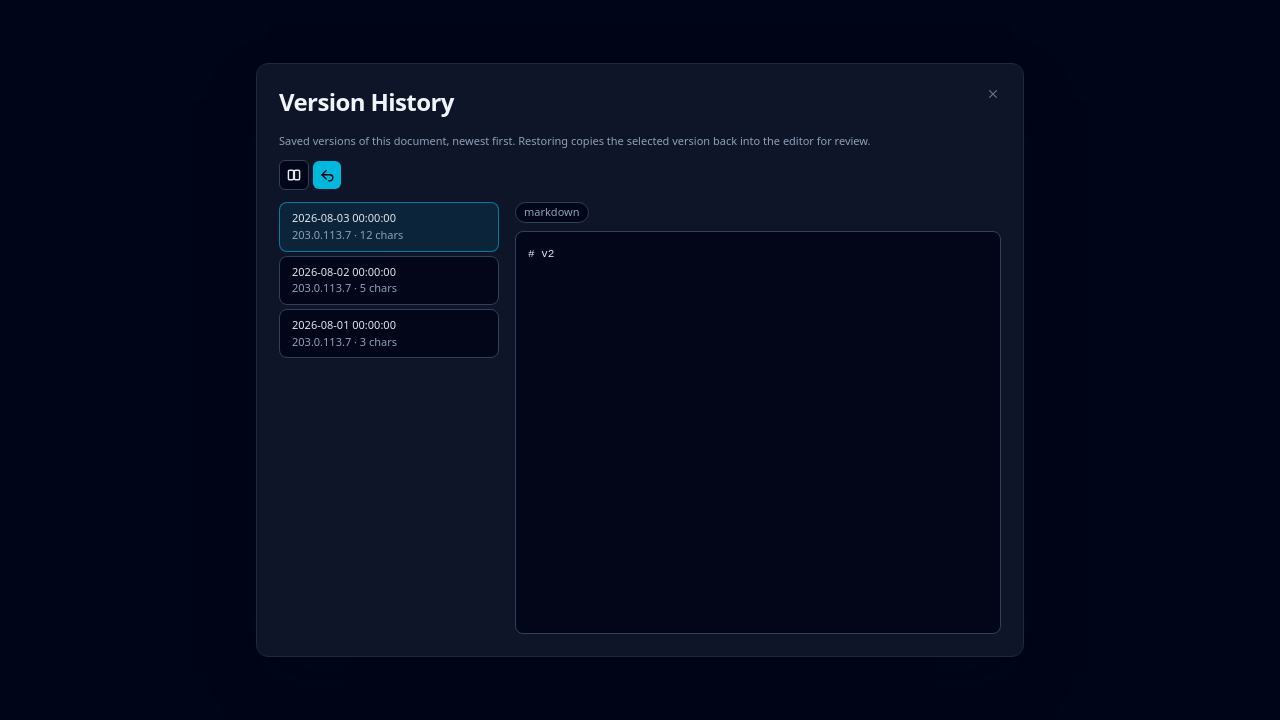
Test: HistoryDialog › shows each pane own document type when the types differ
Check: the text "# v2" is shown, box [515, 231, 1001, 634]
Click the text "203.0.113.7 · 5 chars".
click(345, 288)  # box [292, 280, 397, 295]
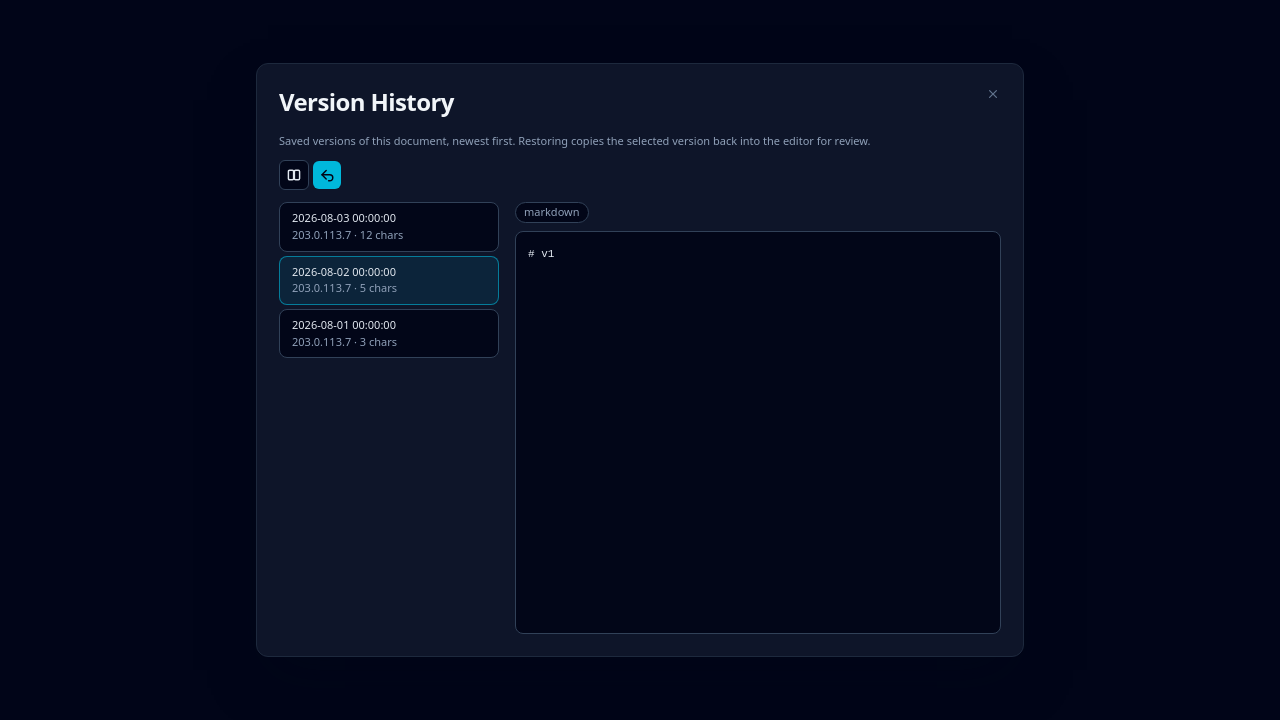
Check: the text "# v1" is shown, box [515, 231, 1001, 634]
Click the button named "Compare with current".
click(294, 175)  # box [279, 160, 309, 190]
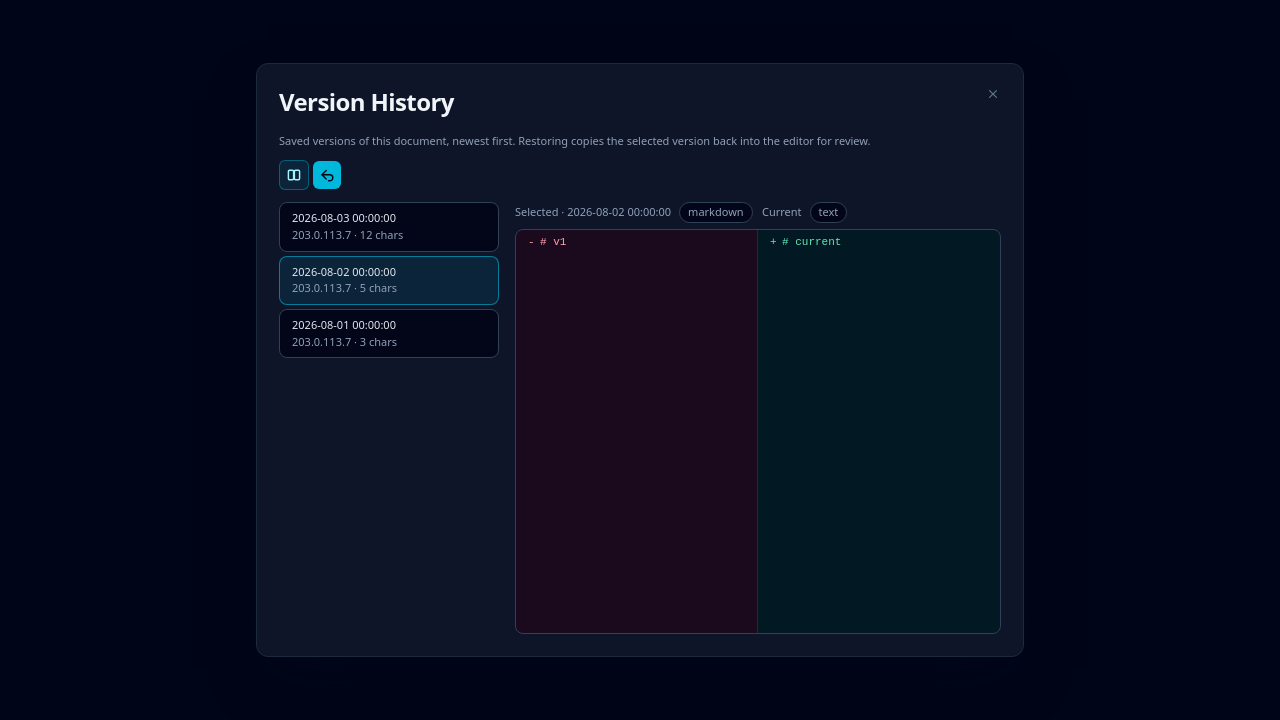
Check: the text "markdown" is shown, box [679, 202, 753, 223]
Check: the text "text" is shown, box [810, 202, 847, 223]
